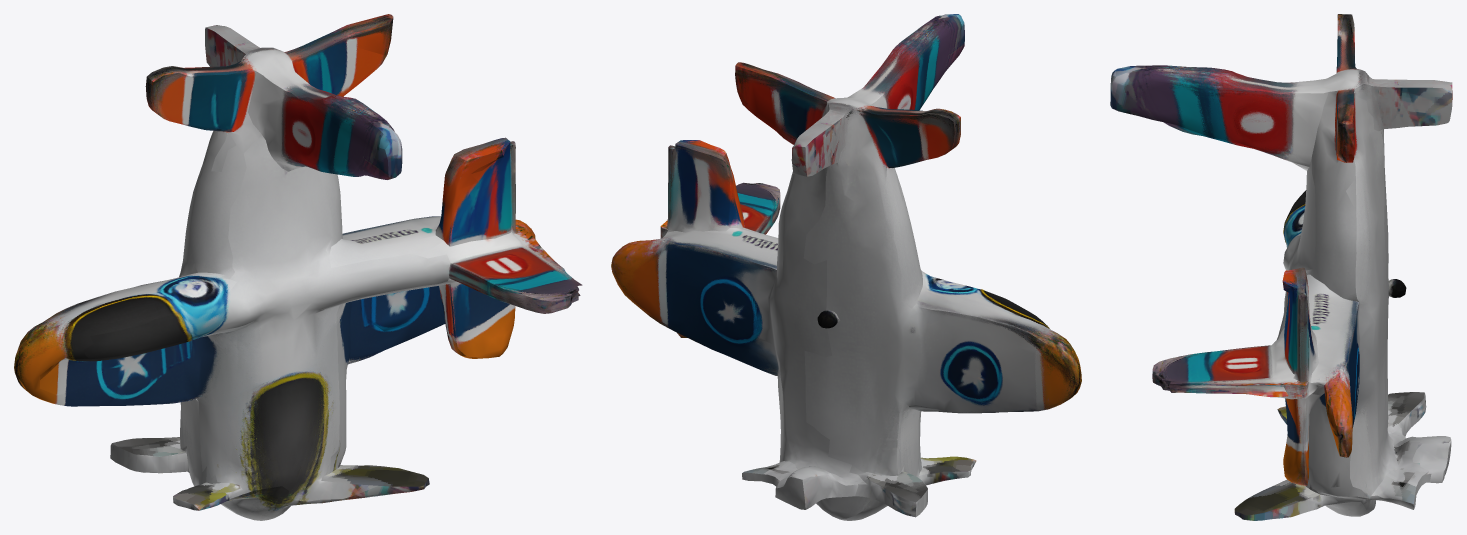
Rendered from out_sim.glb.
3 views of the same model, side by side, from view 1: azimuth 30°, elevation 25°; view 2: azimuth 150°, elevation 25°; view 3: azimuth 270°, elevation 25° (orthographic). The views are drawn at different scales.
Parts seen in each view (by area): view 1: world; view 2: world; view 3: world.
Part boxes in pixels (x1,y1,x2,y2): world: [14, 14, 582, 520]; world: [611, 14, 1081, 520]; world: [1110, 14, 1452, 520].
Size of the model in its own units: 1 by 0.8701 by 0.6005.
Materials: 1 (1 with a texture image).
